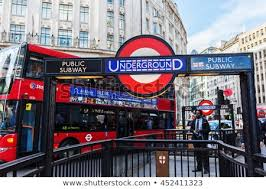London Underground: (110, 35, 184, 95), (196, 97, 216, 117)
